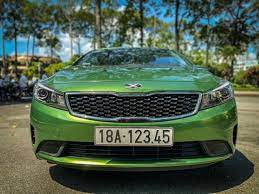Car number plates: (95, 126, 173, 146)
